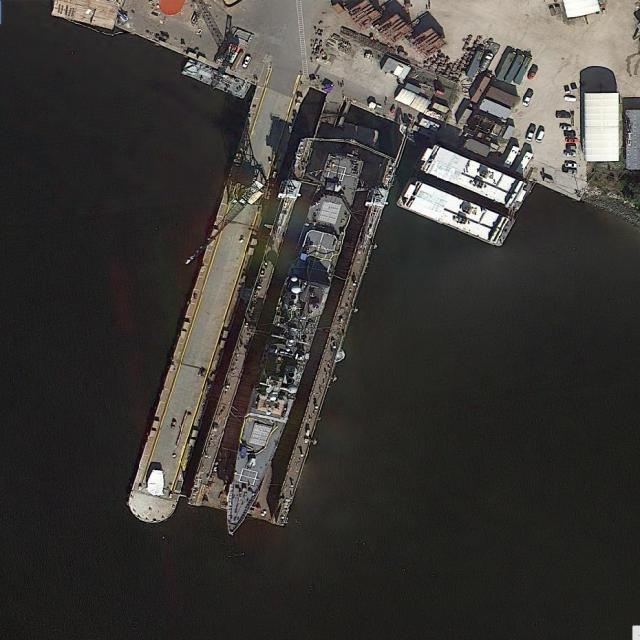Cruiser: (217, 150, 363, 540)
Dock: (122, 83, 301, 530)
